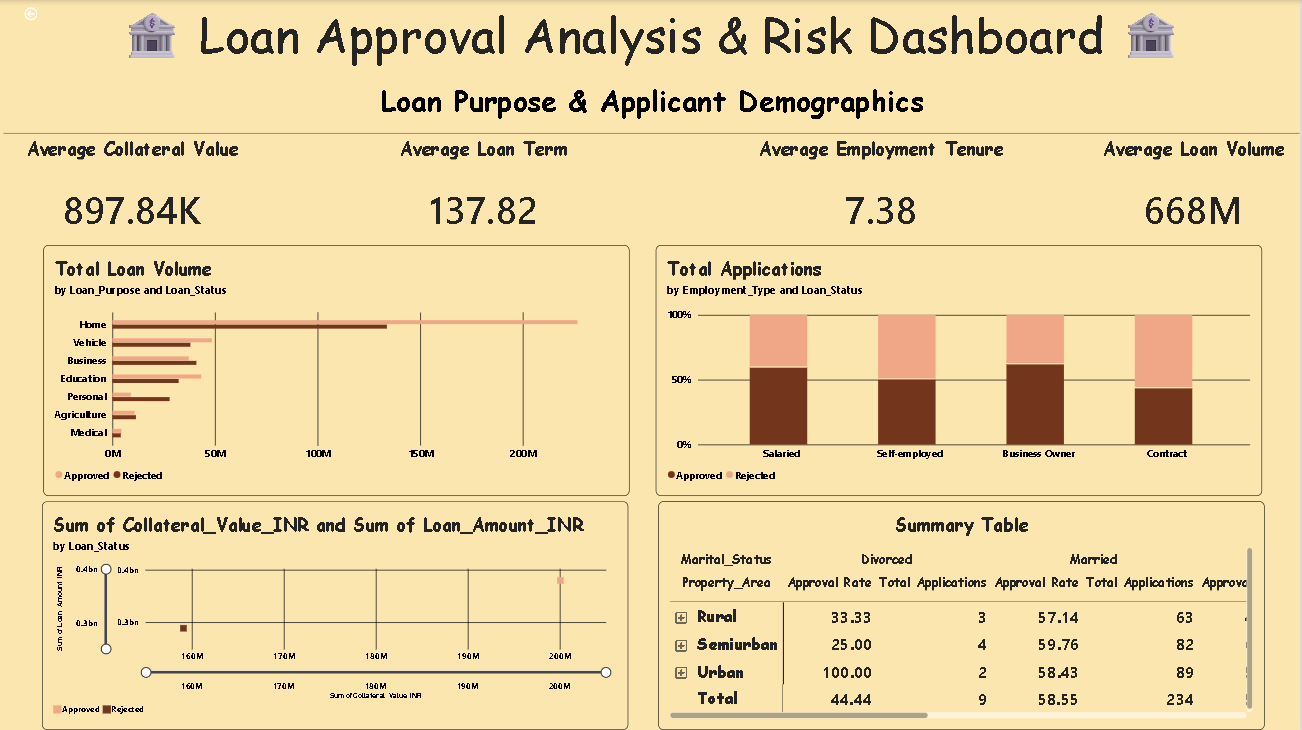

The dashboard page shown, as its layout file describes it:
{"tool":"powerbi","page":{"name":"Loan Purpose & Demographics.","canvas":[1920,1080],"ordinal":2},"visuals":[{"type":"textbox","title":"🏦 Loan Approval Analysis & Risk Dashboard 🏦","box":[9.2,0,1910.4,198.8],"z":0},{"type":"cardVisual","title":"Average Collateral Value","fields":{"Data":["loan_approval_analysis_400_rows_v2.Avg Collateral Value"]},"box":[9.2,198.8,381,162],"z":1000},{"type":"cardVisual","title":"Average Loan Term","fields":{"Data":["loan_approval_analysis_400_rows_v2.Avg Loan Term"]},"box":[530.1,198.8,373.6,162],"z":2000},{"type":"cardVisual","title":"Average Employment Tenure","fields":{"Data":["loan_approval_analysis_400_rows_v2.Avg Employment Tenure"]},"box":[1115.3,198.8,373.6,162],"z":3000},{"type":"cardVisual","title":"Average Loan Volume","fields":{"Data":["loan_approval_analysis_400_rows_v2.Total Loan Volume"]},"box":[1617.8,198.8,289,162],"z":4000},{"type":"clusteredBarChart","fields":{"Category":["loan_approval_analysis_400_rows_v2.Loan_Purpose"],"Series":["loan_approval_analysis_400_rows_v2.Loan_Status"],"Y":["loan_approval_analysis_400_rows_v2.Total Loan Volume"]},"box":[68.1,360.7,863.2,369.9],"z":5000},{"type":"hundredPercentStackedColumnChart","fields":{"Category":["loan_approval_analysis_400_rows_v2.Employment_Type"],"Series":["loan_approval_analysis_400_rows_v2.Loan_Status"],"Y":["loan_approval_analysis_400_rows_v2.Total Applications"]},"box":[969.9,360.7,892.6,369.9],"z":6000},{"type":"scatterChart","fields":{"Series":["loan_approval_analysis_400_rows_v2.Loan_Status"],"X":["Sum(loan_approval_analysis_400_rows_v2.Collateral_Value_INR)"],"Y":["Sum(loan_approval_analysis_400_rows_v2.Loan_Amount_INR)"]},"box":[66.3,738,863.2,336.8],"z":7000},{"type":"pivotTable","title":"Summary Table","fields":{"Columns":["loan_approval_analysis_400_rows_v2.Marital_Status"],"Rows":["loan_approval_analysis_400_rows_v2.Property_Area","loan_approval_analysis_400_rows_v2.Education"],"Values":["loan_approval_analysis_400_rows_v2.Approval Rate","loan_approval_analysis_400_rows_v2.Total Applications"]},"box":[973.6,738,892.6,336.8],"z":8000},{"type":"actionButton","box":[0,0,100,40],"z":9000}]}

Visuals, with their boxes in screenshot pixels (x1, y1, x2, y2), scaled from the page's 1920x1080 canvas onto the 1302x730 screenshot:
"🏦 Loan Approval Analysis & Risk Dashboard 🏦" textbox: x1=6 y1=0 x2=1301 y2=134
"Average Collateral Value" cardVisual: x1=6 y1=134 x2=265 y2=244
"Average Loan Term" cardVisual: x1=359 y1=134 x2=613 y2=244
"Average Employment Tenure" cardVisual: x1=756 y1=134 x2=1010 y2=244
"Average Loan Volume" cardVisual: x1=1097 y1=134 x2=1293 y2=244
clusteredBarChart - loan_approval_analysis_400_rows_v2.Loan_Purpose x loan_approval_analysis_400_rows_v2.Loan_Status: x1=46 y1=244 x2=632 y2=494
hundredPercentStackedColumnChart - loan_approval_analysis_400_rows_v2.Employment_Type x loan_approval_analysis_400_rows_v2.Loan_Status: x1=658 y1=244 x2=1263 y2=494
scatterChart - loan_approval_analysis_400_rows_v2.Loan_Status x Sum(loan_approval_analysis_400_rows_v2.Collateral_Value_INR): x1=45 y1=499 x2=630 y2=726
"Summary Table" pivotTable: x1=660 y1=499 x2=1266 y2=726
actionButton: x1=0 y1=0 x2=68 y2=27
